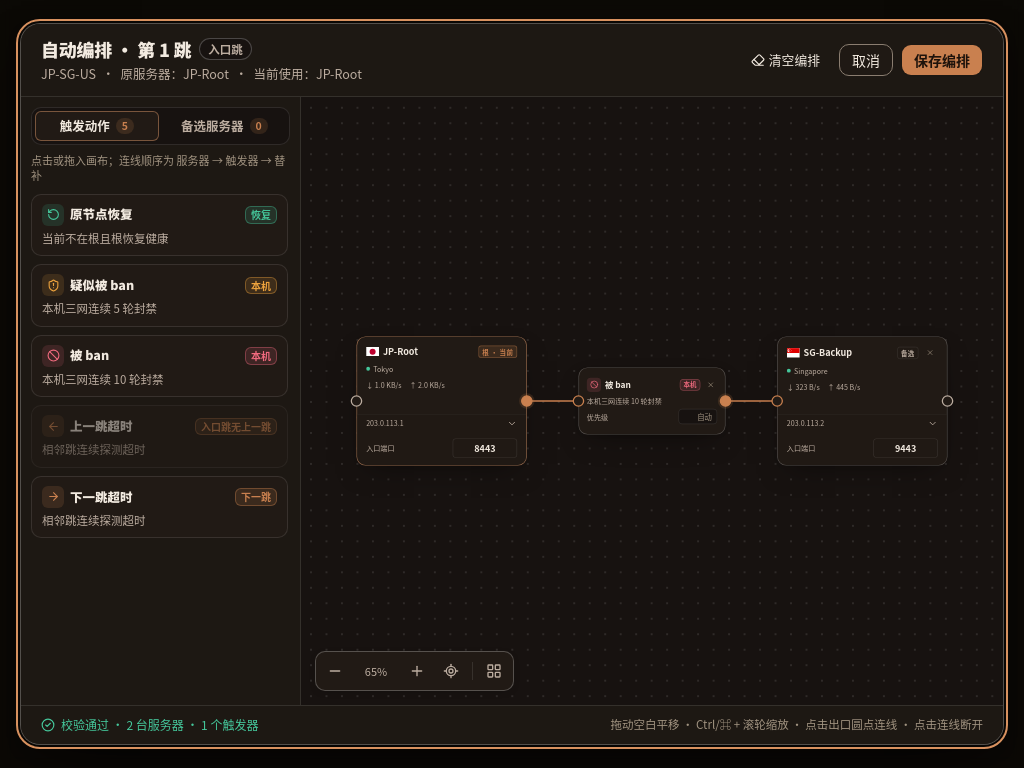
Scenario: OrchestrationEditor › 容灾切换后同步当前节点标记并保留未保存的编排修改
Click the button with class "orch-trigger-item" showing "疑似被 ban 本机 本机三网连续 5 轮封禁".
click(160, 296)  # box top-left (31, 264), bottom-right (288, 327)
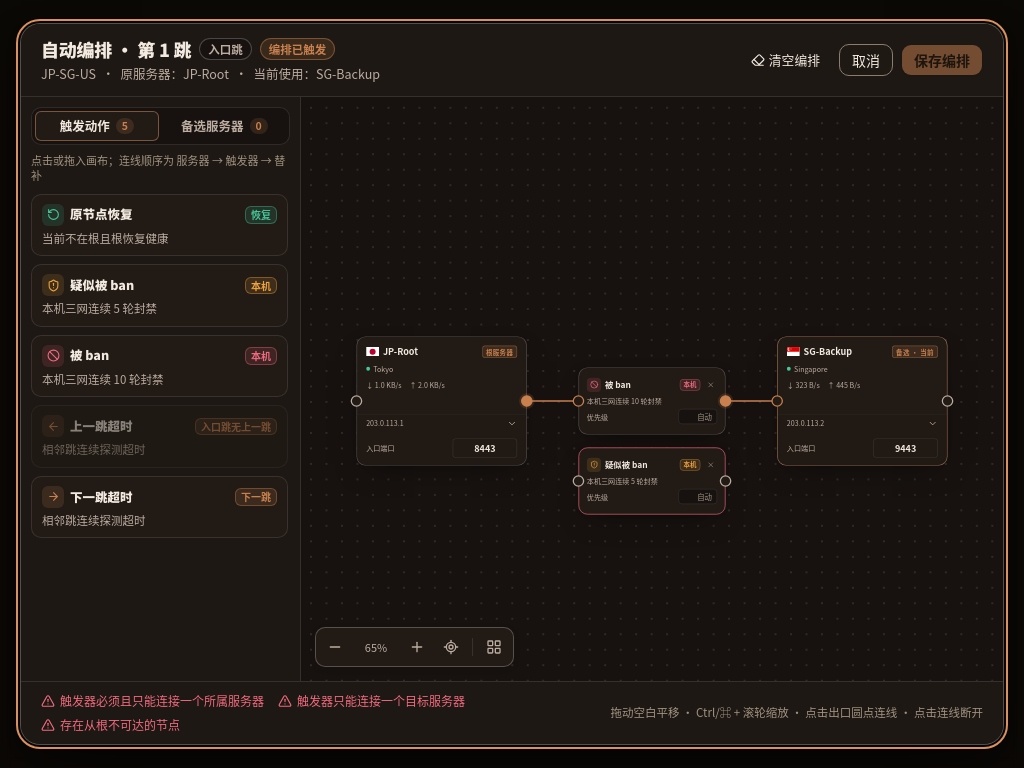
Expected: the element with class "orch-head-meta" shows "当前使用：SG-Backup", top-left (41, 64), bottom-right (380, 82)
Expected: the number of elements with class "orch-cond" is 2, top-left (578, 368), bottom-right (726, 435); top-left (578, 448), bottom-right (726, 515)
